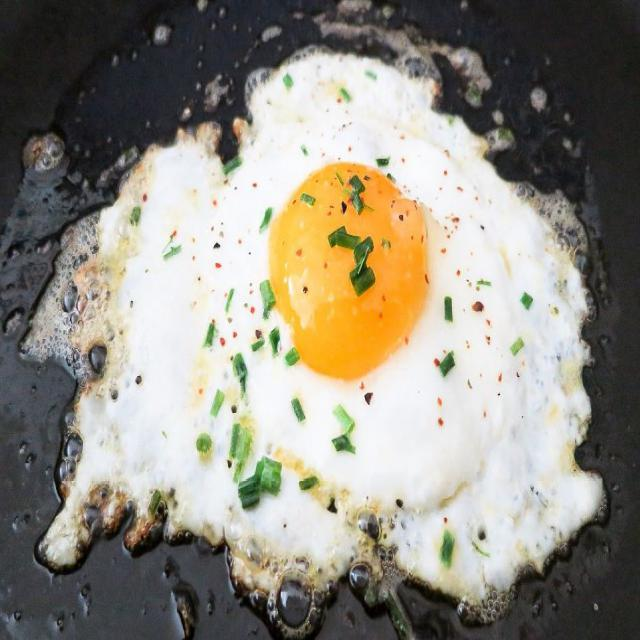Fried Egg: (216, 128, 518, 518)
